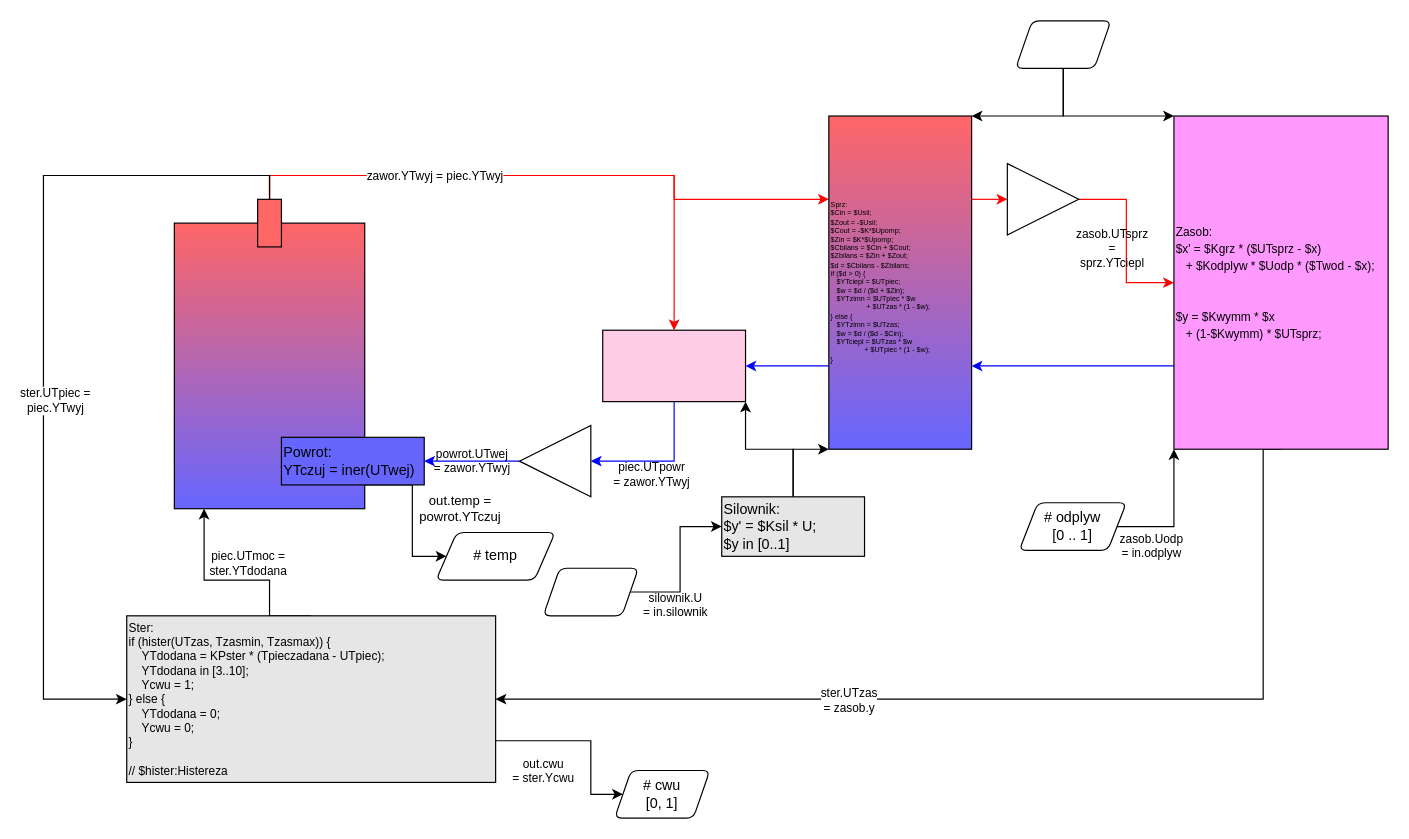
The diagram is 1409 pixels wide and 839 high, and some of its shapes have lost their labels. The shapes that lost their labels are listed below. From the top down, each one's box as (x1, y1, x2, y2) in pixels, then its label:
(1014, 20, 1111, 68): # pomp [0, 1]
(173, 222, 365, 509): Piec: YTwyj = $iner:Inercja(UTpowr + UTmoc);
(602, 329, 746, 402): Zawor: YTwyj = Usil * UTsprz + (1-Usil) * UTpiec
(542, 567, 638, 616): # sil [-1, 0, +1]
